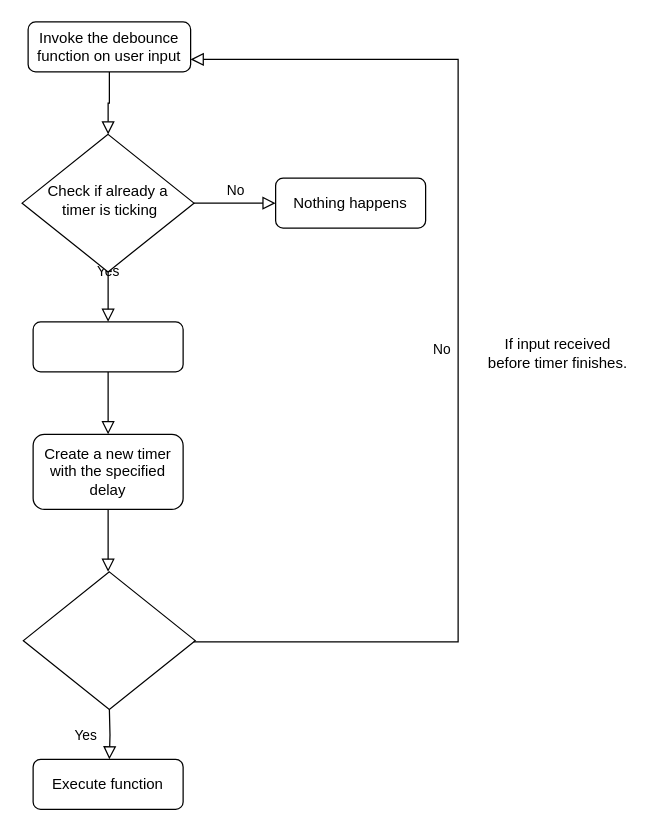
The diagram is 655 pixels wide and 831 high, and some of its shapes have lost their labels. Each missing label, with the box of its shape:
Check if timer finishes: (22, 571, 195, 709)
Clear timer to reset the delay: (32, 321, 183, 372)
